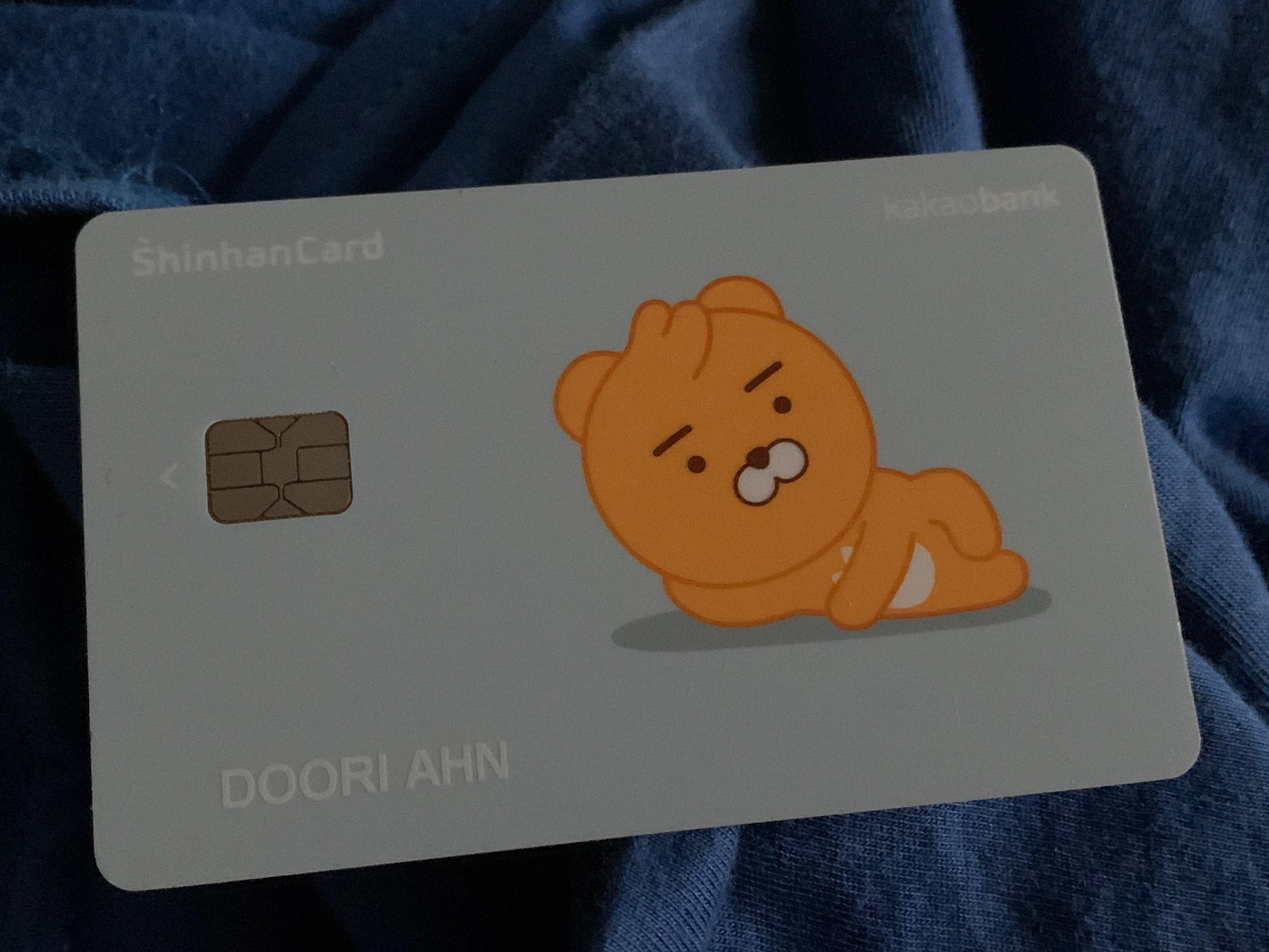Credit_card: (77, 148, 1199, 889)
